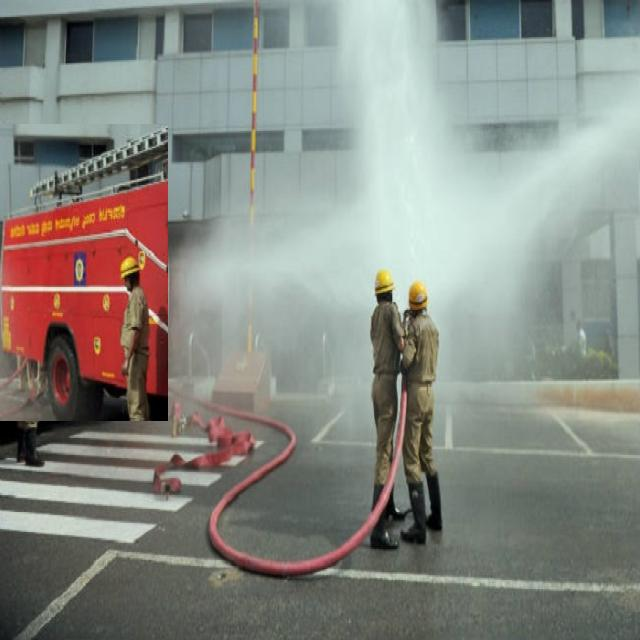emergency: (0, 125, 168, 421)
